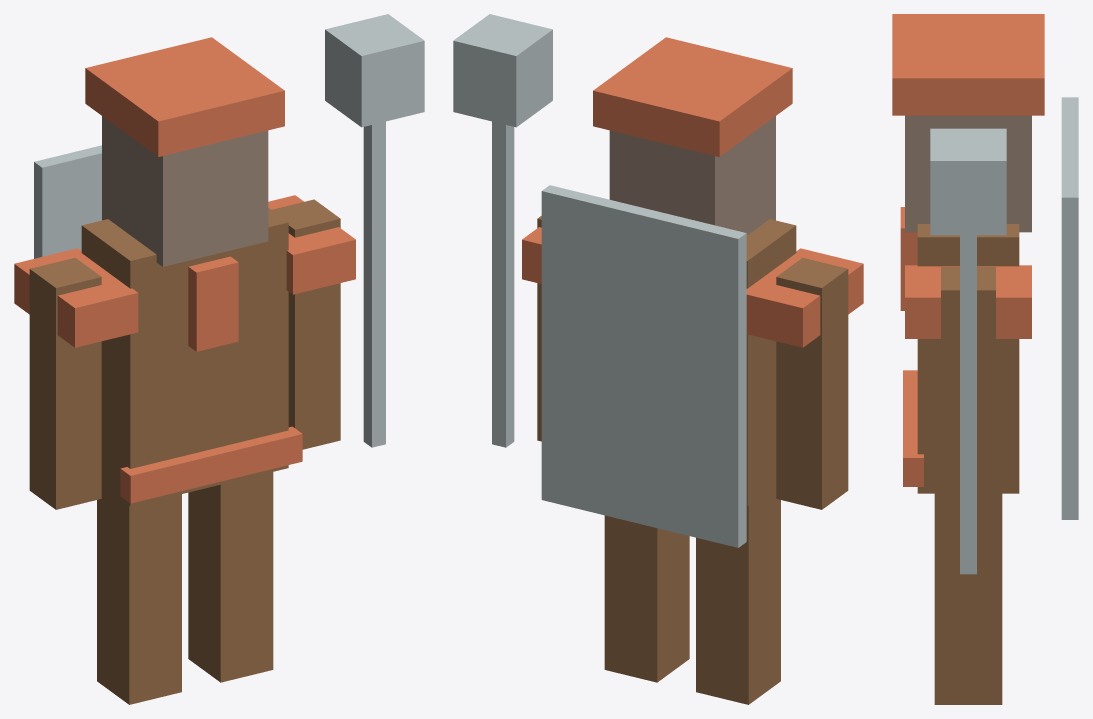
The model's file is 20_brant_frostrelay_fixer_under_echo.glb.
3 renders of one model, left to right at view 1: azimuth 30°, elevation 25°; view 2: azimuth 150°, elevation 25°; view 3: azimuth 270°, elevation 25°, orthographic. The views are drawn at different scales.
Visible parts, largest first — view 1: Brant Frostrelay, Fixer under Echo; view 2: Brant Frostrelay, Fixer under Echo; view 3: Brant Frostrelay, Fixer under Echo.
Boxes of the visible parts, x1,y1,x2,y2 form: Brant Frostrelay, Fixer under Echo: (14, 14, 424, 704); Brant Frostrelay, Fixer under Echo: (453, 14, 863, 704); Brant Frostrelay, Fixer under Echo: (892, 14, 1078, 704).
Bounding box in the file's own units: 0.995 × 1.56 × 0.423.
